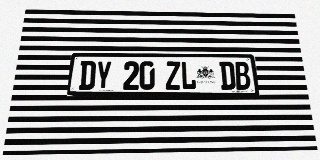0: (139, 61, 155, 90)
2: (123, 61, 139, 90)
B: (234, 62, 251, 90)
D: (78, 61, 96, 90), (219, 62, 236, 90)
L: (181, 61, 196, 90)
Y: (95, 61, 112, 90)
Z: (165, 61, 181, 90)
